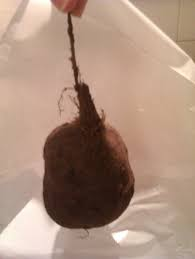beet: (43, 10, 135, 229)
